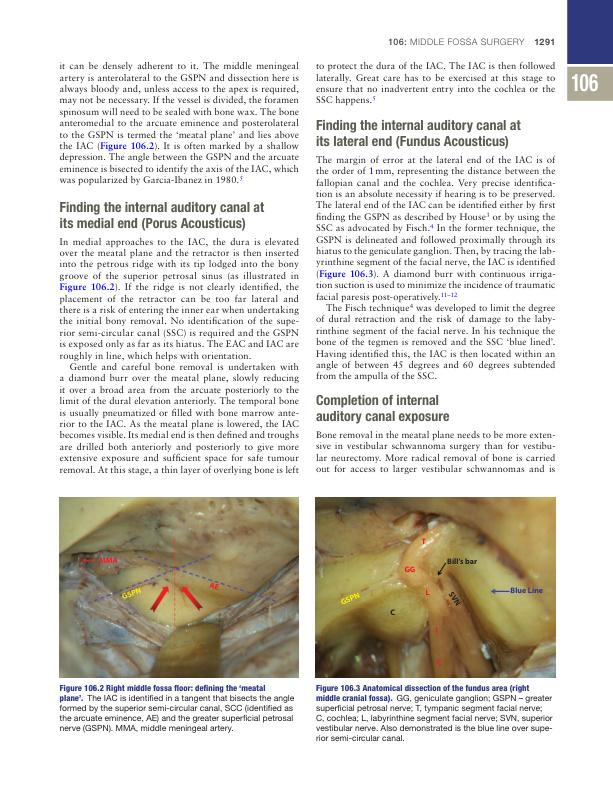caption: (314, 684, 555, 743), (58, 683, 296, 735)
header: (388, 36, 526, 47)
image: (59, 495, 299, 680), (314, 496, 555, 679)
sub-section-heading: (314, 117, 523, 150), (58, 200, 265, 233), (314, 393, 451, 426)
text: (58, 236, 299, 476), (314, 153, 557, 382), (58, 60, 301, 186), (314, 60, 556, 107), (314, 429, 557, 475)
